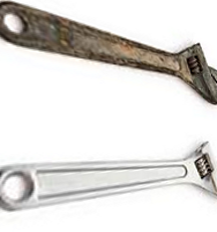Wrench: (2, 1, 217, 105), (1, 136, 217, 212)
